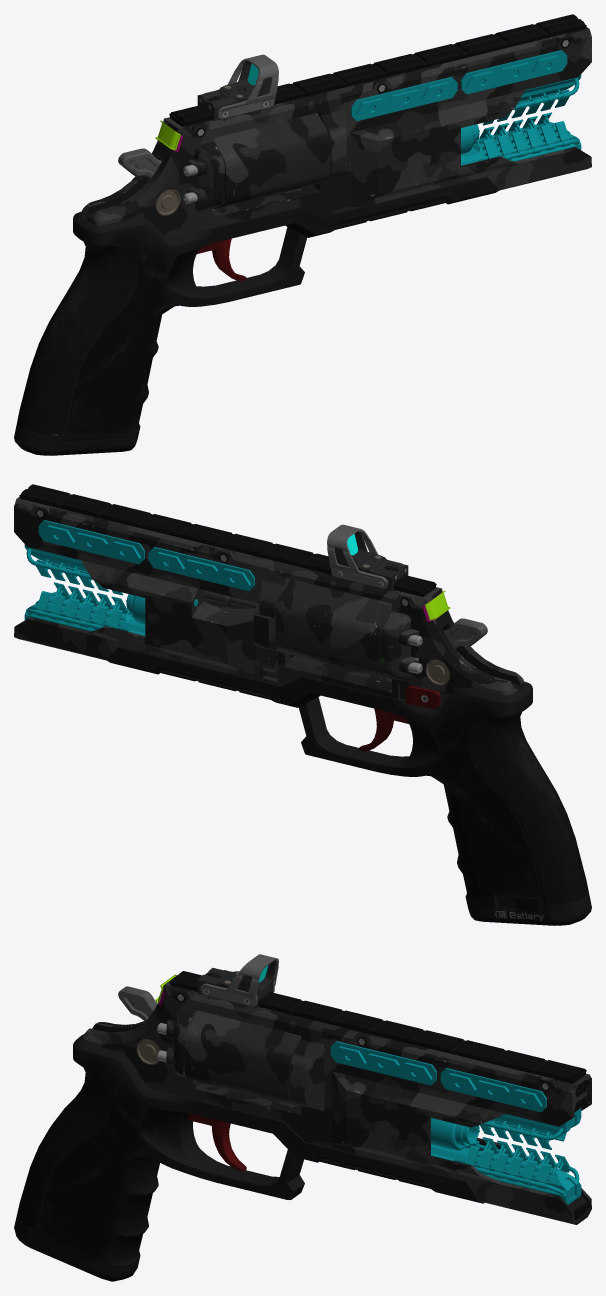
File: Revolver.fbx
3 views of the same model, one above another, from view 1: azimuth 30°, elevation 25°; view 2: azimuth 150°, elevation 25°; view 3: azimuth 330°, elevation 25° (orthographic).
Visible parts, largest first — view 1: Receiver_1, RailGunBarrelSF, Drum, CollimatorSf; view 2: Receiver_1, RailGunBarrelSF, Drum, CollimatorSf, Extractor; view 3: Receiver_1, RailGunBarrelSF, Drum, CollimatorSf.
Part boxes in pixels (left/top/right/bottom): Receiver_1: left=14, top=14, right=591, bottom=455; RailGunBarrelSF: left=351, top=50, right=581, bottom=165; Drum: left=214, top=113, right=330, bottom=209; CollimatorSf: left=197, top=54, right=278, bottom=120; Receiver_1: left=14, top=484, right=591, bottom=925; RailGunBarrelSF: left=24, top=520, right=277, bottom=650; Drum: left=275, top=579, right=391, bottom=679; CollimatorSf: left=327, top=524, right=408, bottom=590; Extractor: left=204, top=590, right=277, bottom=672; Receiver_1: left=14, top=971, right=591, bottom=1281; RailGunBarrelSF: left=330, top=1041, right=581, bottom=1204; Drum: left=184, top=1010, right=301, bottom=1106; CollimatorSf: left=197, top=954, right=278, bottom=1007.
Size of the model in its own units: 2415 by 1436 by 308.
